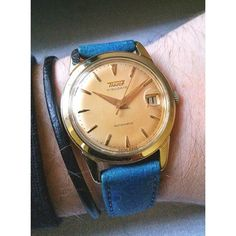clock: (59, 51, 177, 167)
